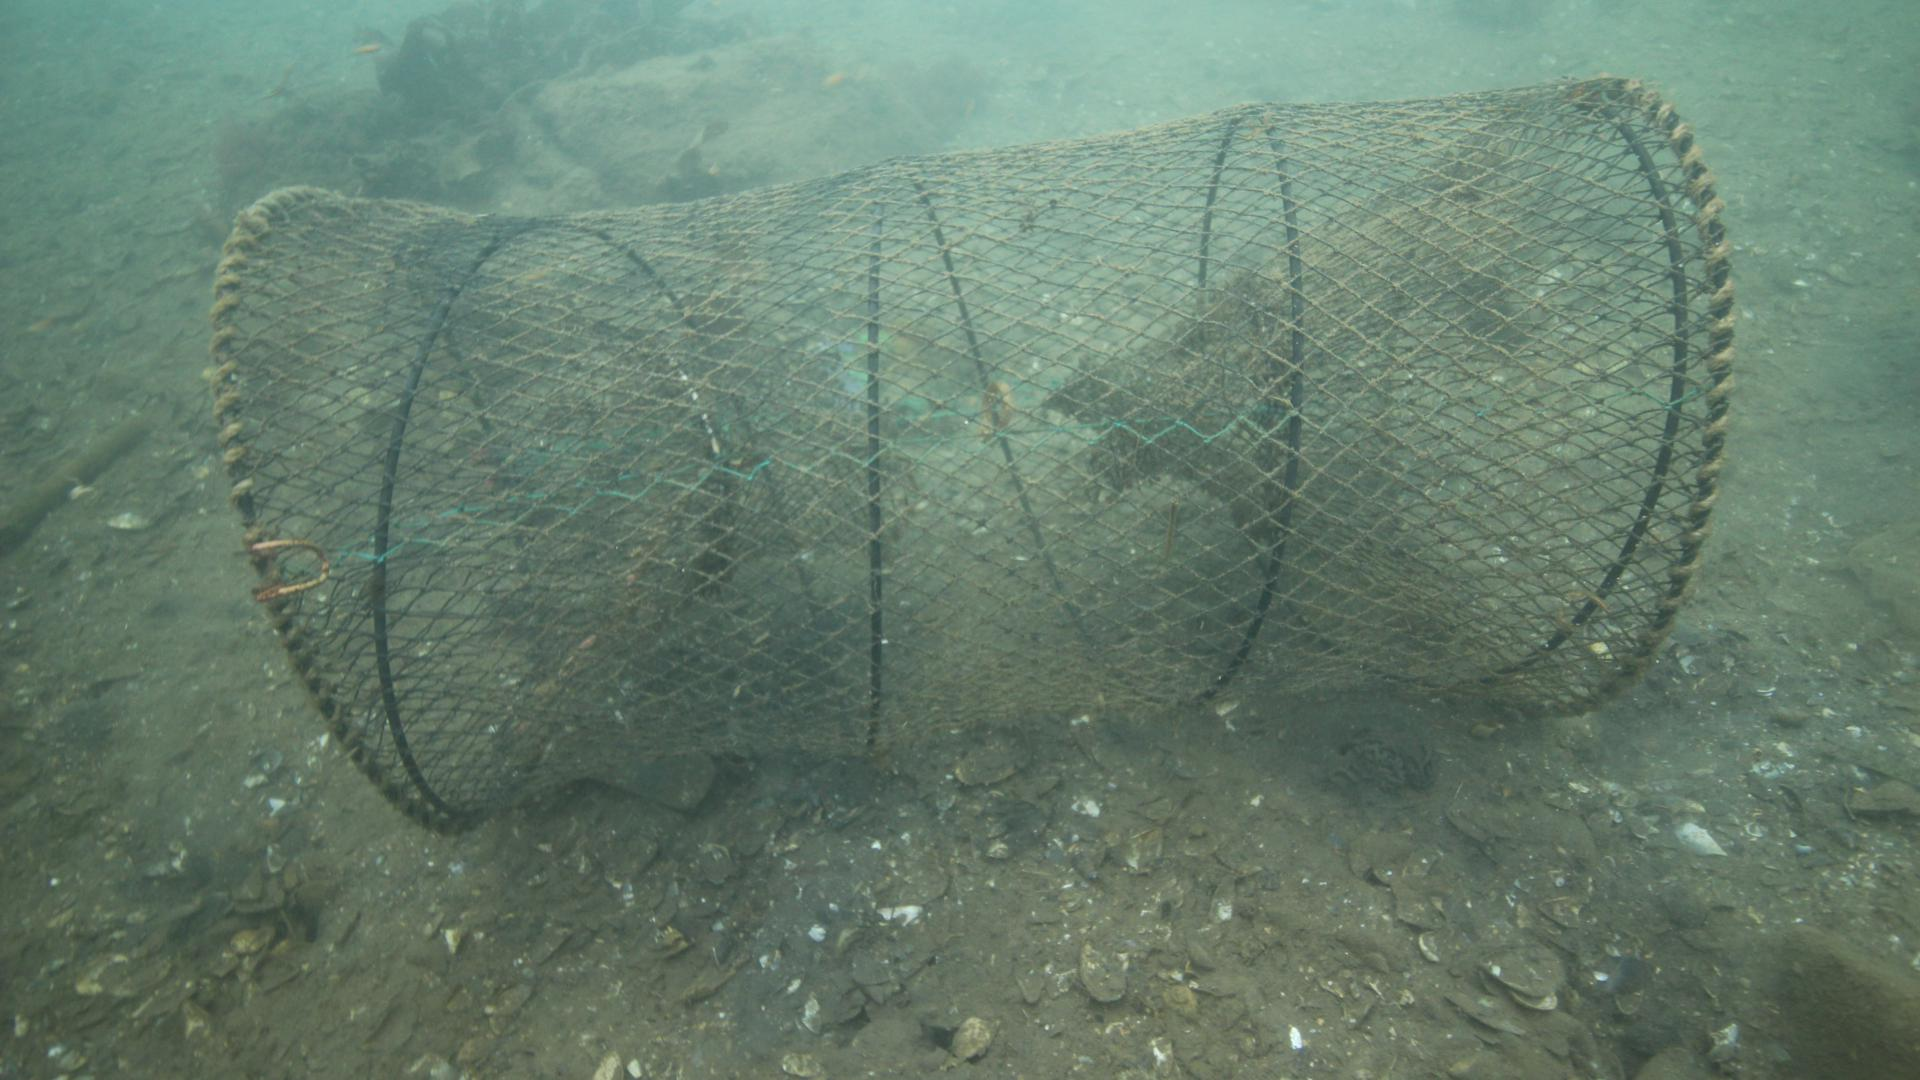spring fish trap: (204, 73, 1731, 833)
